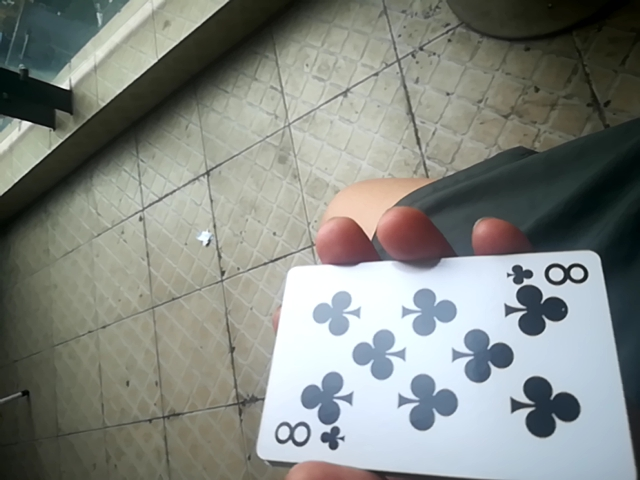mh 8: (263, 247, 640, 479)
